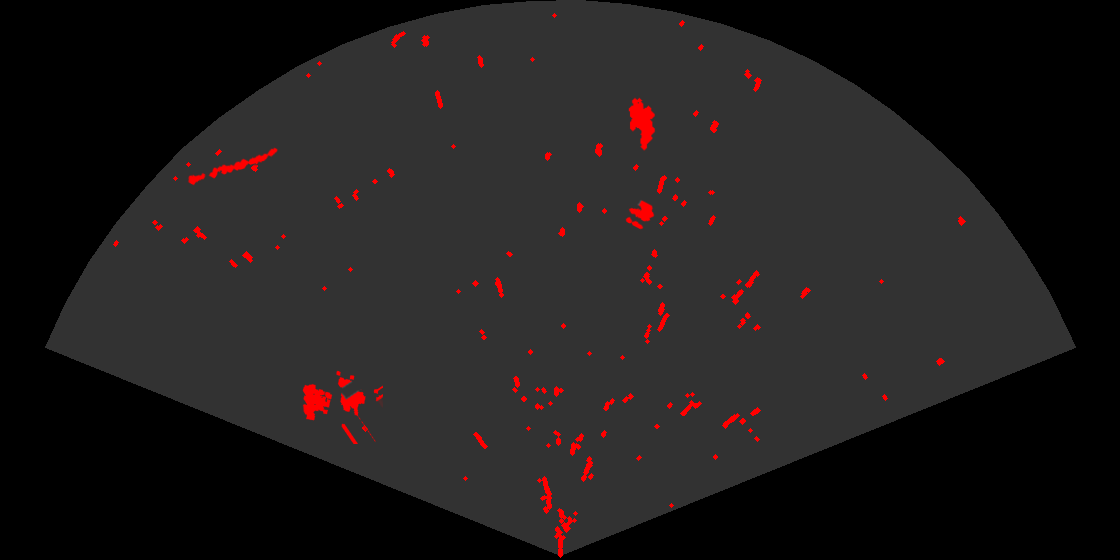AUV: (627, 96, 656, 152)
ball: (624, 199, 656, 231)
cage: (301, 369, 383, 444)
chain: (186, 146, 279, 187)
